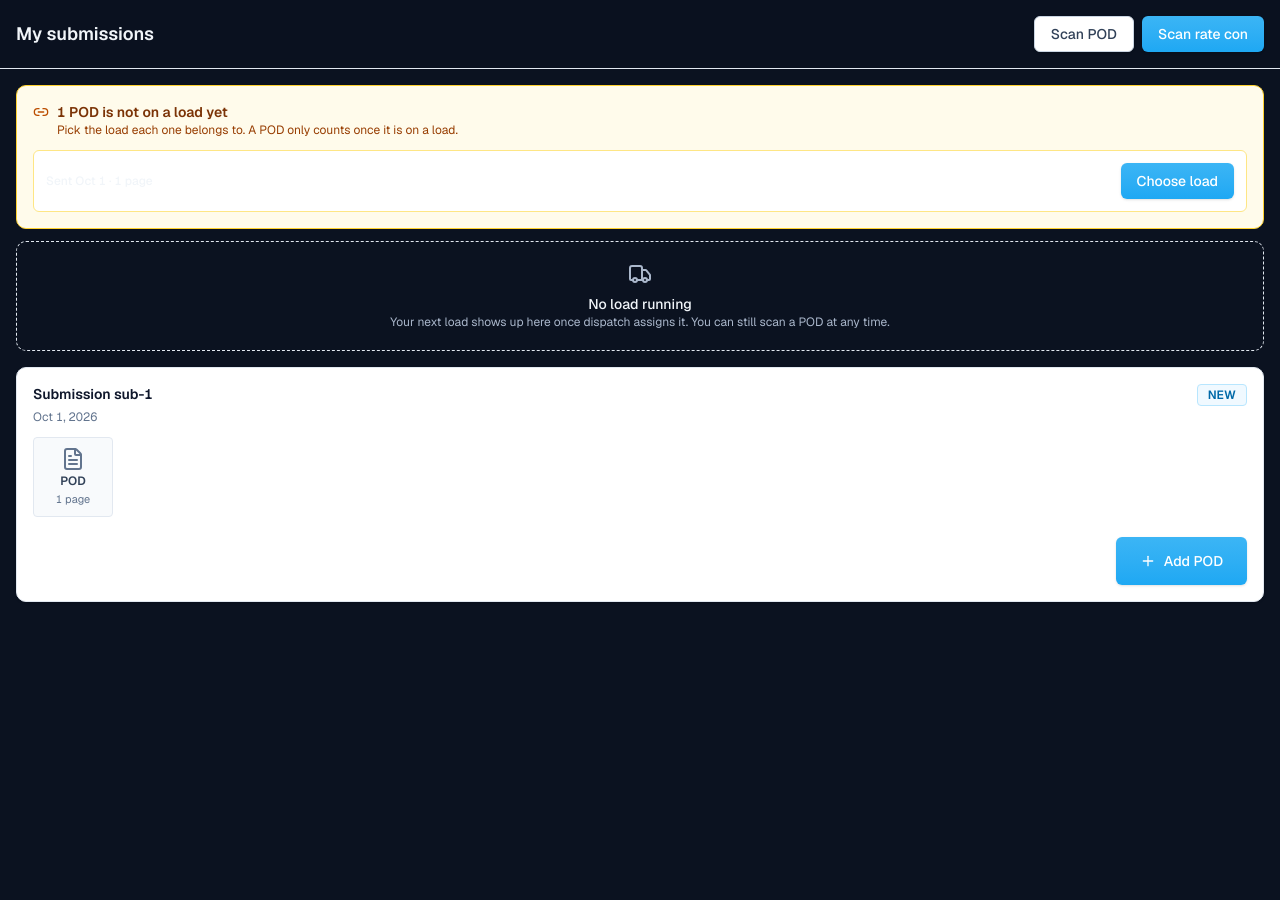
Test: SubmissionsPage › a POD waiting for a load › says so plainly when the driver has no built loads to attach to
Click the button "Choose load": (1177, 181) [1120,163,1234,199]
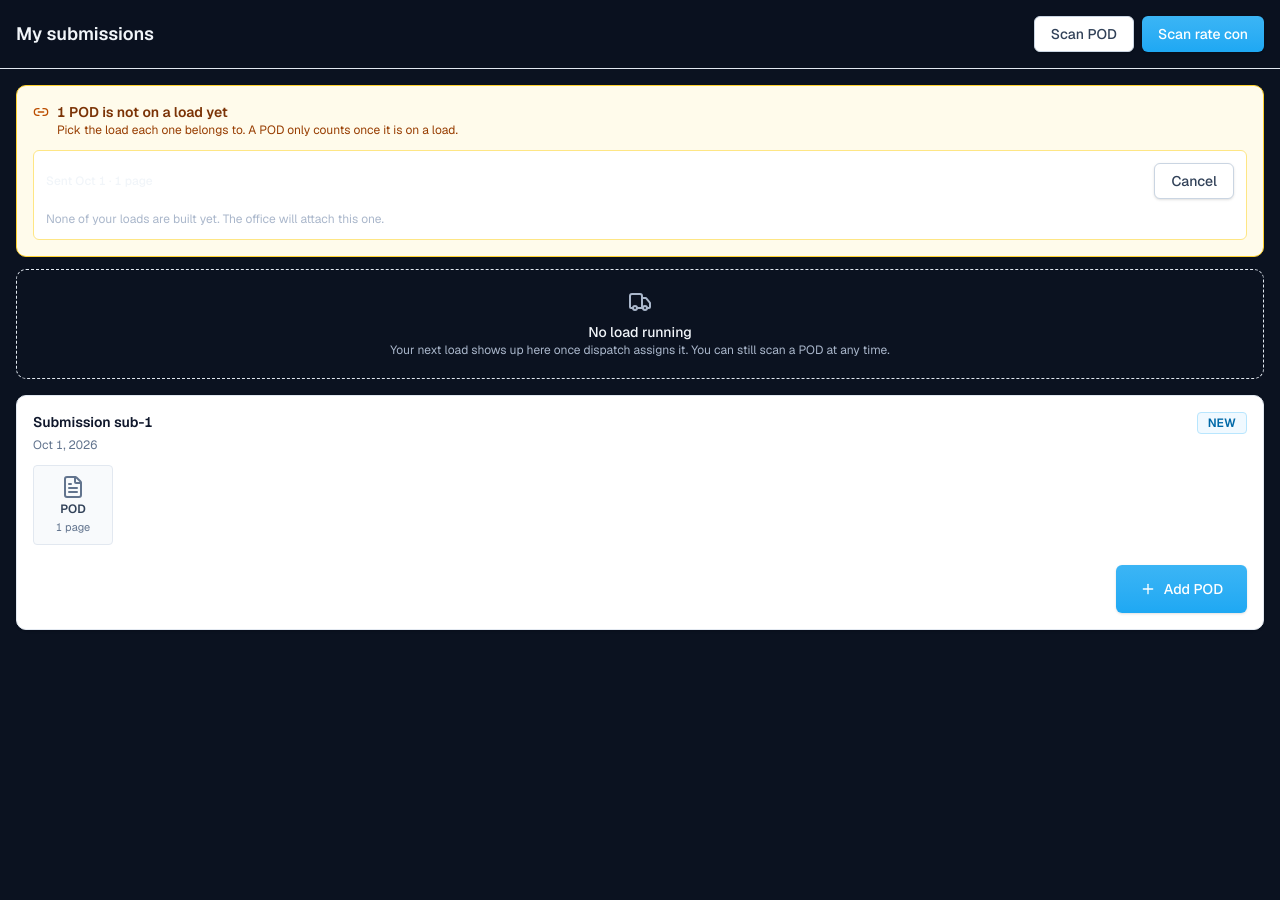
expect the text "None of your loads are built yet" is shown: met, box [46,211,384,227]
